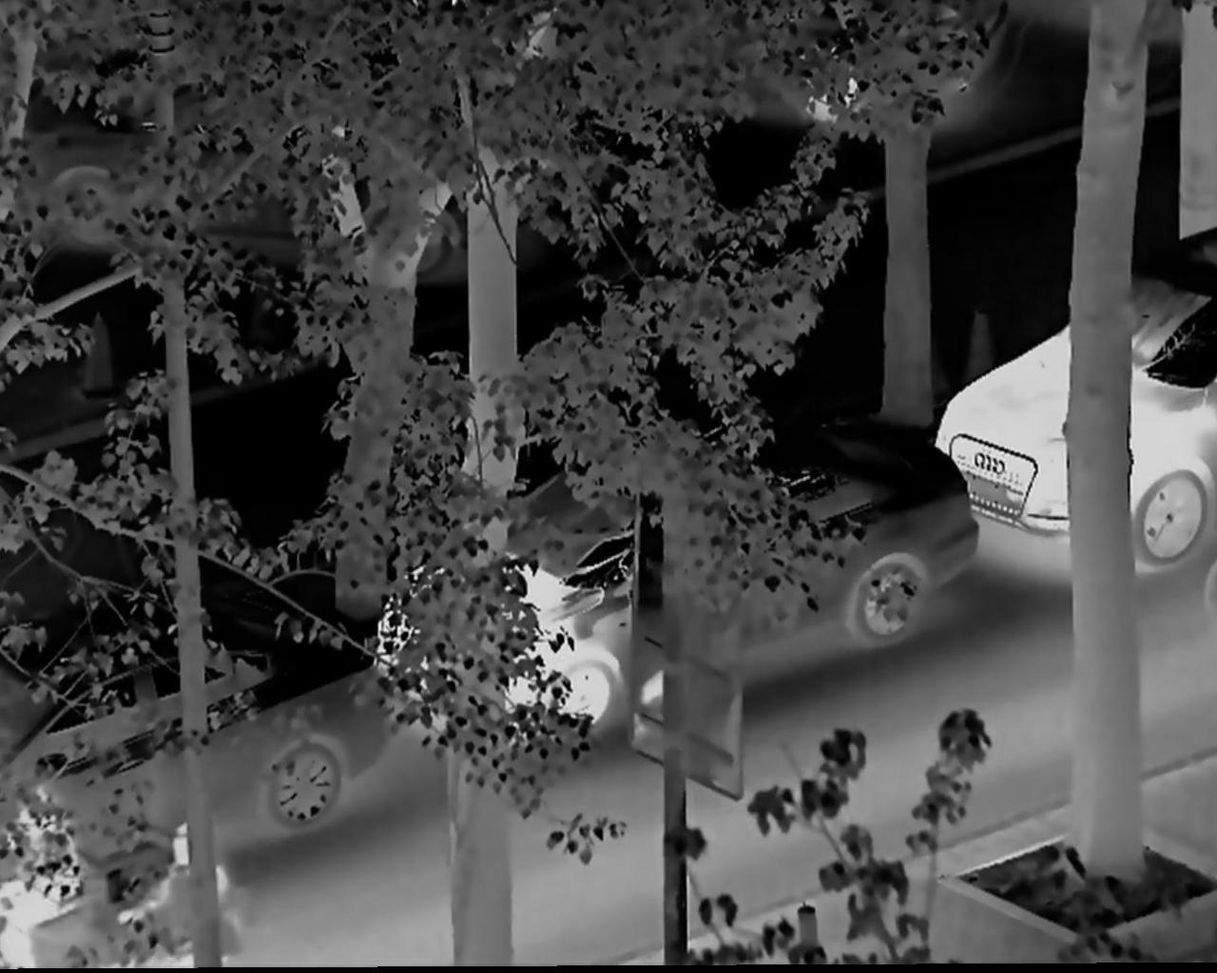person: (3, 803, 107, 965), (126, 824, 244, 965)
